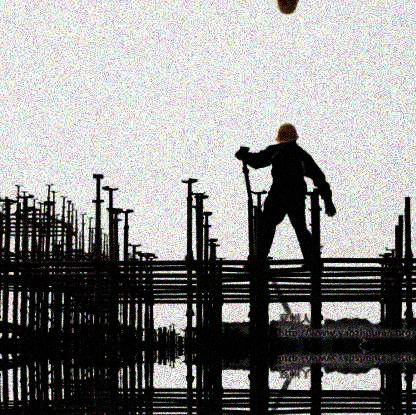helmet: (276, 124, 298, 152)
